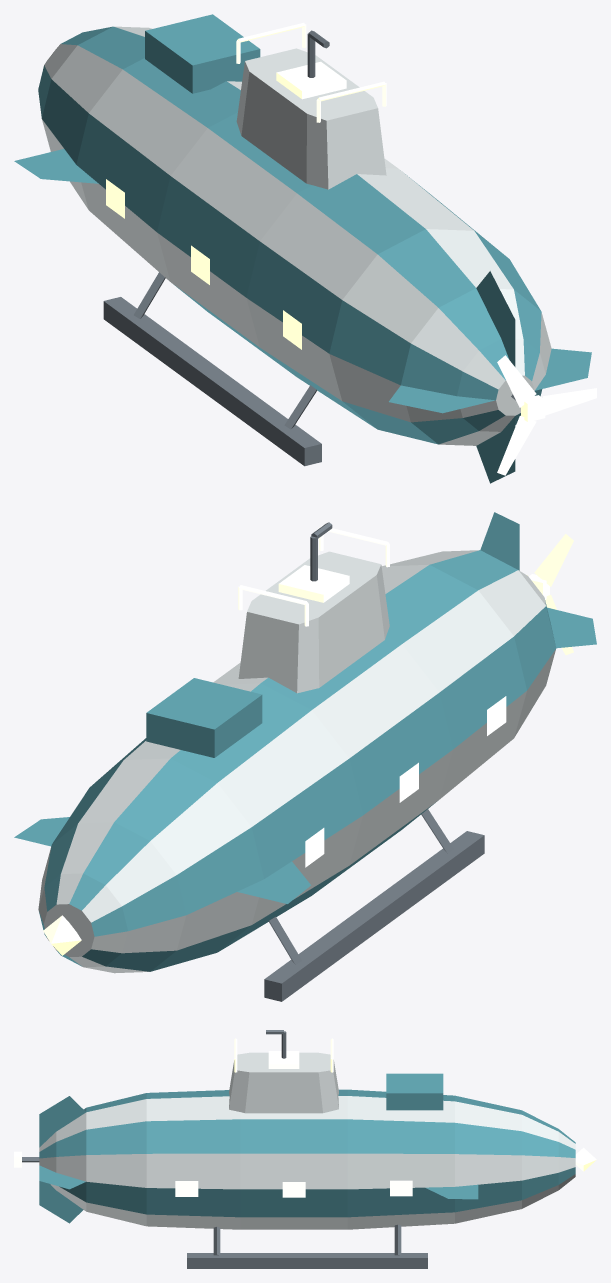
The model's file is 67-Vehiculos_perla_ancestral.glb.
3 views of the same model, one above another, from view 1: azimuth 30°, elevation 25°; view 2: azimuth 150°, elevation 25°; view 3: azimuth 270°, elevation 25° (orthographic). The views are drawn at different scales.
Parts seen in each view (by area): view 1: SM_Perla_M_Perla_Casco, SM_Perla_M_Perla_Acento, SM_Perla_M_Perla_MetalOscuro, SM_Perla_M_Perla_Cristal; view 2: SM_Perla_M_Perla_Casco, SM_Perla_M_Perla_Acento, SM_Perla_M_Perla_MetalOscuro, SM_Perla_M_Perla_Cristal; view 3: SM_Perla_M_Perla_Casco, SM_Perla_M_Perla_Acento, SM_Perla_M_Perla_MetalOscuro, SM_Perla_M_Perla_Cristal.
Boxes of the visible parts, x1,y1,x2,y2 form: SM_Perla_M_Perla_Casco: (42, 26, 551, 445); SM_Perla_M_Perla_Acento: (14, 14, 591, 483); SM_Perla_M_Perla_MetalOscuro: (103, 30, 515, 466); SM_Perla_M_Perla_Cristal: (43, 22, 596, 475); SM_Perla_M_Perla_Casco: (38, 550, 555, 973); SM_Perla_M_Perla_Acento: (14, 512, 596, 971); SM_Perla_M_Perla_MetalOscuro: (264, 522, 484, 1001); SM_Perla_M_Perla_Cristal: (43, 525, 573, 955); SM_Perla_M_Perla_Casco: (39, 1052, 575, 1229); SM_Perla_M_Perla_Acento: (39, 1073, 575, 1223); SM_Perla_M_Perla_MetalOscuro: (22, 1030, 427, 1268); SM_Perla_M_Perla_Cristal: (14, 1038, 596, 1197).
Size of the model in its own units: 2.81 by 3.51 by 8.7.
